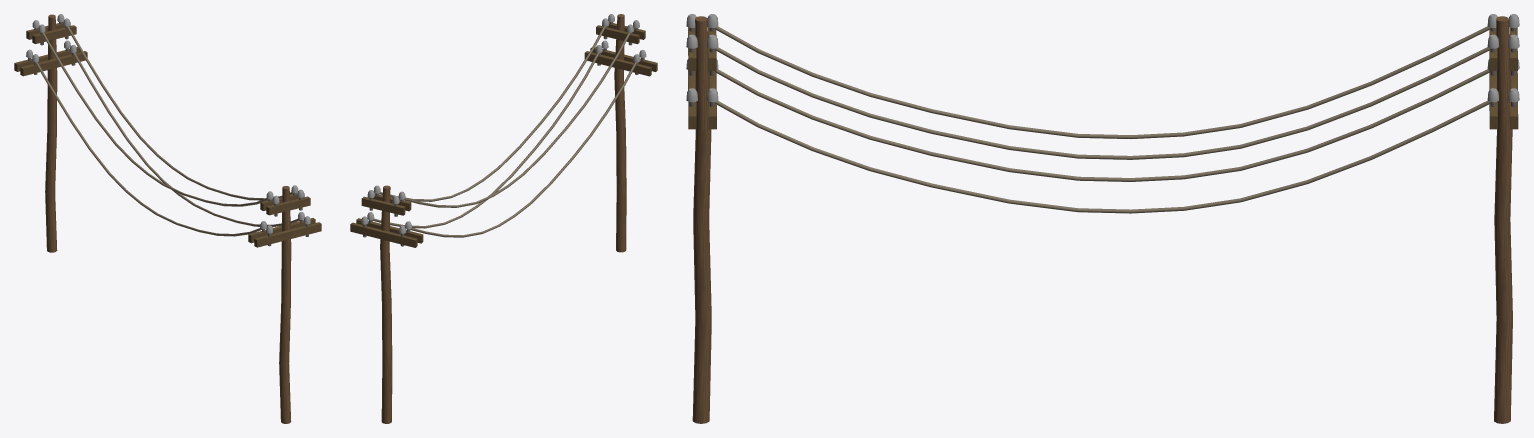
Rendered from SM_electric_column_02.glb.
3 renders of one model, left to right at view 1: azimuth 30°, elevation 25°; view 2: azimuth 150°, elevation 25°; view 3: azimuth 270°, elevation 25°, orthographic. The views are drawn at different scales.
Visible parts, largest first — view 1: SM_electric_column_02; view 2: SM_electric_column_02; view 3: SM_electric_column_02.
Boxes of the visible parts, x1,y1,x2,y2 form: SM_electric_column_02: (14, 14, 321, 423); SM_electric_column_02: (350, 14, 657, 423); SM_electric_column_02: (686, 14, 1519, 423).
Size of the model in its own units: 2.91 by 10 by 18.81.
5 materials, 2 textured.
